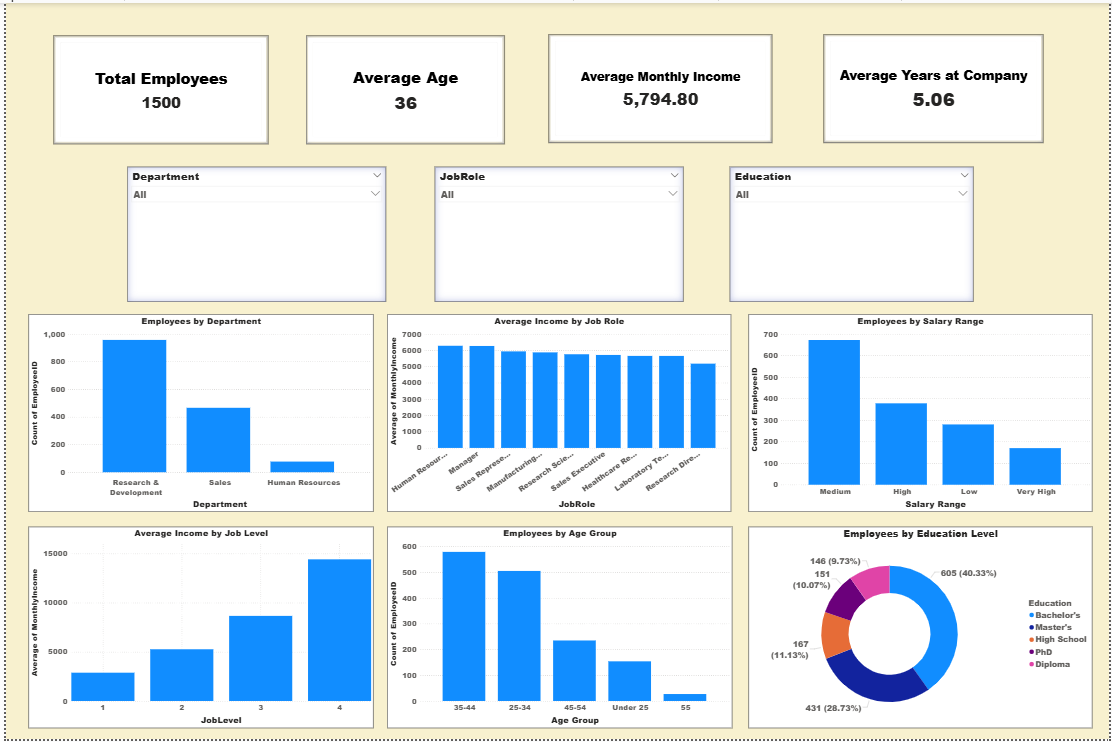

The dashboard page shown, as its layout file describes it:
{"tool":"powerbi","page":{"name":"Employee Profile & Compensation","canvas":[3000,2000],"ordinal":2},"visuals":[{"type":"cardVisual","fields":{"Data":["DAX Measures.Total Employees"]},"box":[129.1,88.3,584.2,295.5],"z":1},{"type":"cardVisual","fields":{"Data":["DAX Measures.Average Age"]},"box":[815.2,88.3,540.1,295.5],"z":2},{"type":"cardVisual","fields":{"Data":["DAX Measures.Average Monthly Income"]},"box":[1474.2,84.9,608,295.5],"z":3},{"type":"cardVisual","fields":{"Data":["DAX Measures.Average Years at Company"]},"box":[2221.5,84.9,597.8,295.5],"z":4},{"type":"slicer","fields":{"Values":["EmployeeData.Department"]},"box":[329.5,445,703.1,366.8],"z":5},{"type":"slicer","fields":{"Values":["EmployeeData.JobRole"]},"box":[1165.1,445,676,366.8],"z":6},{"type":"slicer","fields":{"Values":["EmployeeData.Education"]},"box":[1966.7,445,662.4,366.8],"z":7},{"type":"clusteredColumnChart","title":"Employees by Department","fields":{"Category":["EmployeeData.Department"],"Y":["CountNonNull(EmployeeData.EmployeeID)"]},"box":[61.1,845.8,937.5,536.7],"z":8},{"type":"clusteredColumnChart","title":"Average Income by Job Role","fields":{"Category":["EmployeeData.JobRole"],"Y":["Avg(EmployeeData.MonthlyIncome)"]},"box":[1036,845.8,934.1,536.7],"z":9},{"type":"clusteredColumnChart","title":"Employees by Salary Range","fields":{"Y":["CountNonNull(EmployeeData.EmployeeID)"],"Category":["EmployeeData.Salary Range"]},"box":[2017.7,845.8,934.1,536.7],"z":10},{"type":"clusteredColumnChart","title":"Employees by Age Group","fields":{"Category":["EmployeeData.Age Group"],"Y":["CountNonNull(EmployeeData.EmployeeID)"]},"box":[1036,1423.2,937.5,546.9],"z":11},{"type":"clusteredColumnChart","title":"Average Income by Job Level","fields":{"Category":["EmployeeData.JobLevel"],"Y":["Avg(EmployeeData.MonthlyIncome)"]},"box":[61.1,1423.2,937.5,546.9],"z":12},{"type":"donutChart","title":"Employees by Education Level","fields":{"Category":["EmployeeData.Education"],"Y":["CountNonNull(EmployeeData.EmployeeID)"]},"box":[2017.7,1423.2,934.1,546.9],"z":13}]}

Visuals, with their boxes in screenshot pixels (x1, y1, x2, y2), scaled from the page's 3000x2000 canvas onto the 1112x742 screenshot:
cardVisual - DAX Measures.Total Employees: crop(48, 33, 264, 142)
cardVisual - DAX Measures.Average Age: crop(302, 33, 502, 142)
cardVisual - DAX Measures.Average Monthly Income: crop(546, 31, 772, 141)
cardVisual - DAX Measures.Average Years at Company: crop(823, 31, 1045, 141)
slicer - EmployeeData.Department: crop(122, 165, 383, 301)
slicer - EmployeeData.JobRole: crop(432, 165, 682, 301)
slicer - EmployeeData.Education: crop(729, 165, 975, 301)
"Employees by Department" clusteredColumnChart: crop(23, 314, 370, 513)
"Average Income by Job Role" clusteredColumnChart: crop(384, 314, 730, 513)
"Employees by Salary Range" clusteredColumnChart: crop(748, 314, 1094, 513)
"Employees by Age Group" clusteredColumnChart: crop(384, 528, 732, 731)
"Average Income by Job Level" clusteredColumnChart: crop(23, 528, 370, 731)
"Employees by Education Level" donutChart: crop(748, 528, 1094, 731)
